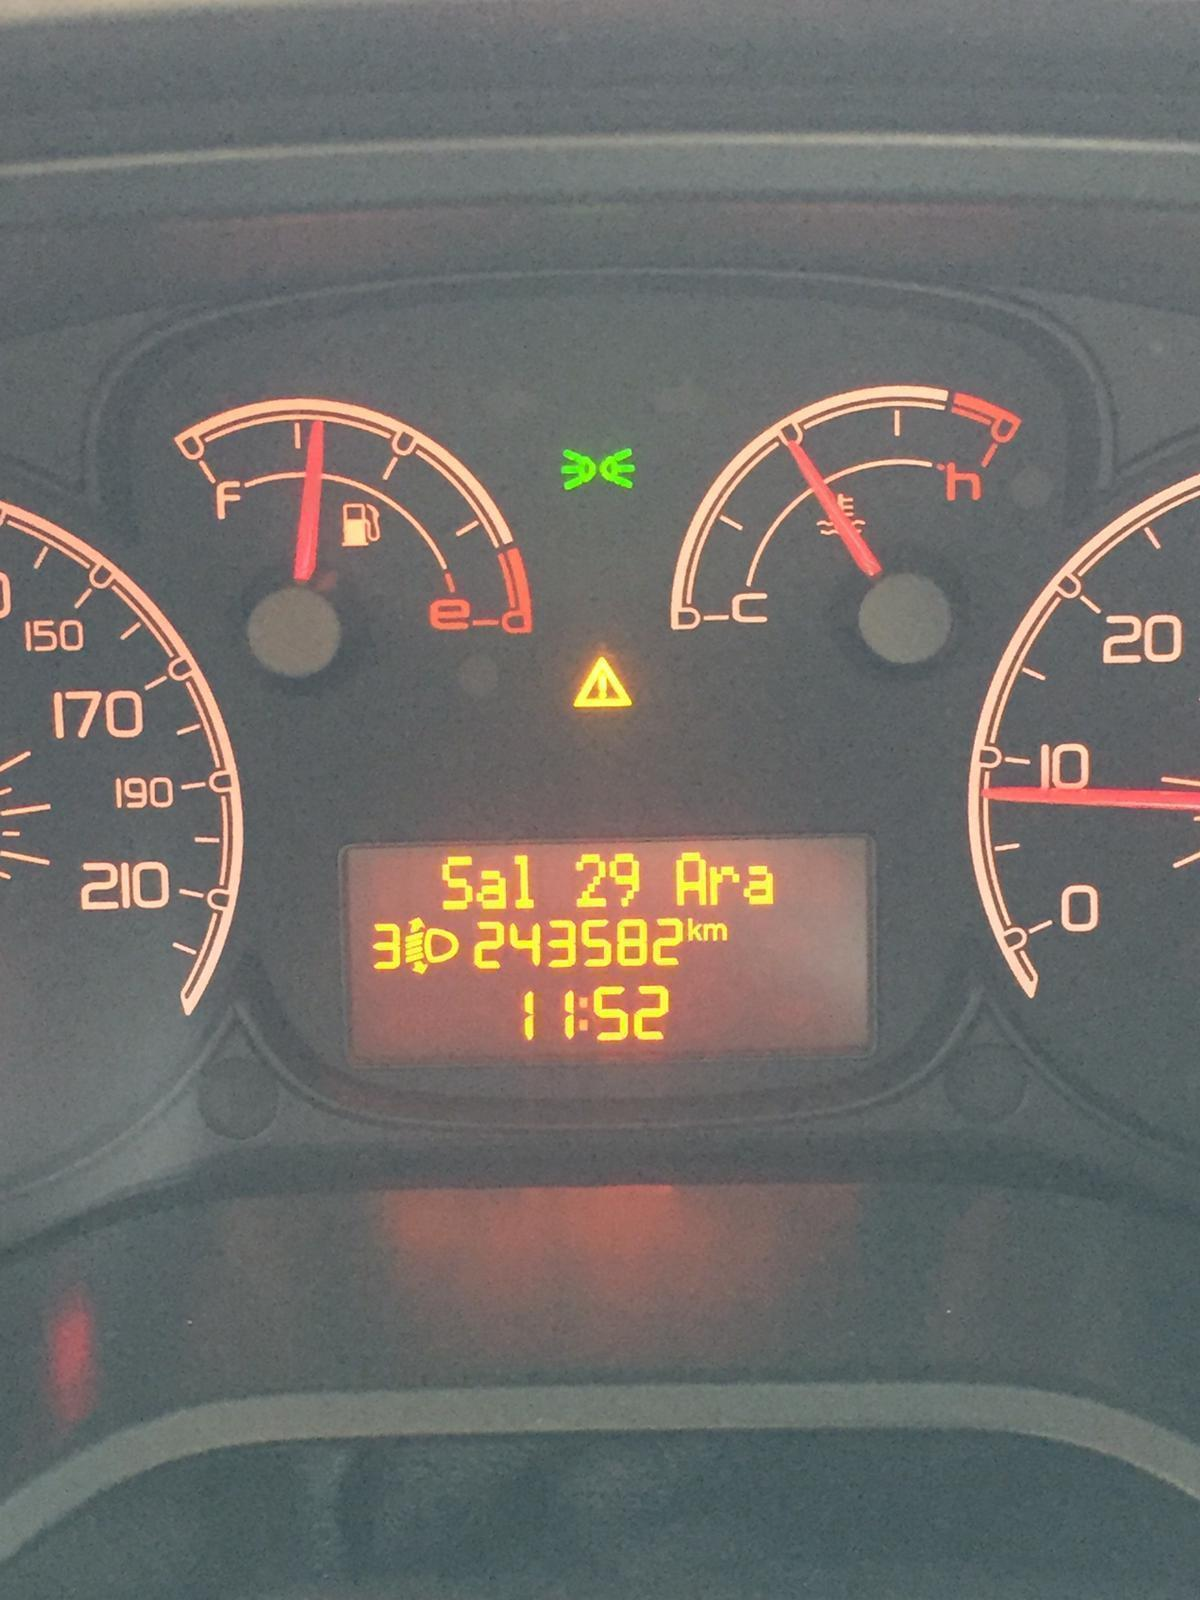1: (516, 983, 541, 1044), (557, 986, 575, 1043)
2: (632, 981, 671, 1043), (574, 850, 608, 911), (652, 913, 684, 968), (473, 917, 505, 971)
3: (545, 917, 579, 970), (369, 918, 402, 973)
4: (507, 917, 542, 968)
5: (592, 981, 632, 1043), (580, 916, 614, 968)
8: (615, 916, 650, 968)
9: (609, 850, 644, 906)
X: (437, 853, 475, 911), (673, 849, 707, 908), (509, 848, 538, 913), (475, 864, 511, 911), (745, 862, 775, 908), (708, 862, 737, 906), (576, 993, 592, 1036), (700, 920, 729, 942), (684, 915, 703, 942)
odometer: (337, 834, 881, 1060)
